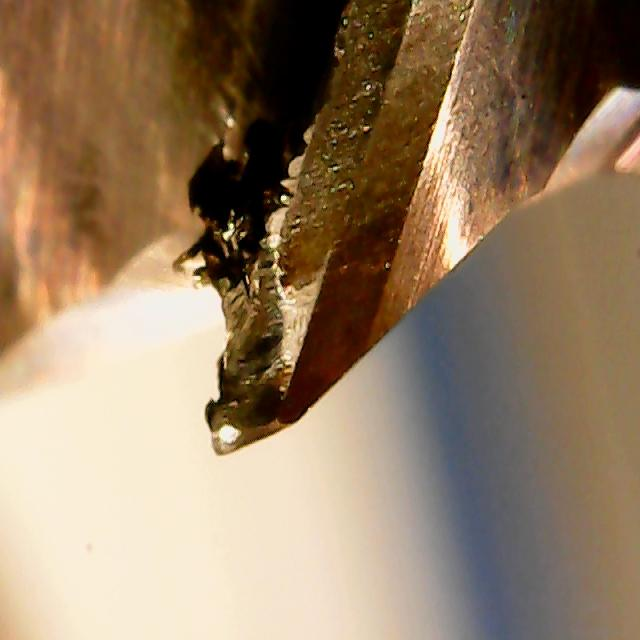Tool-wear-class-3: (182, 228, 373, 462)
